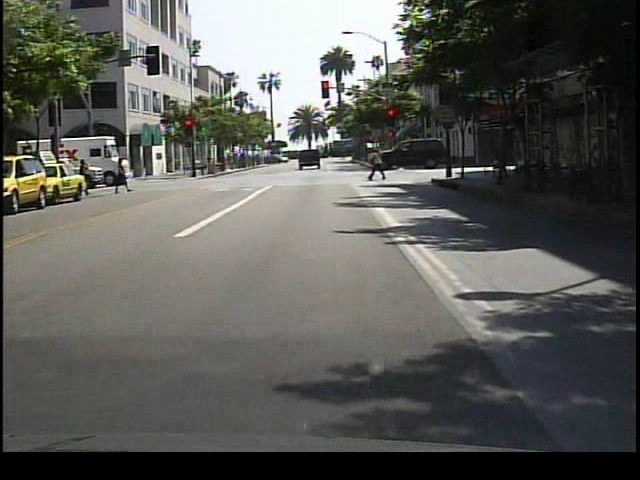person: (489, 138, 511, 185), (74, 152, 94, 196), (370, 147, 390, 182), (114, 157, 131, 195)
